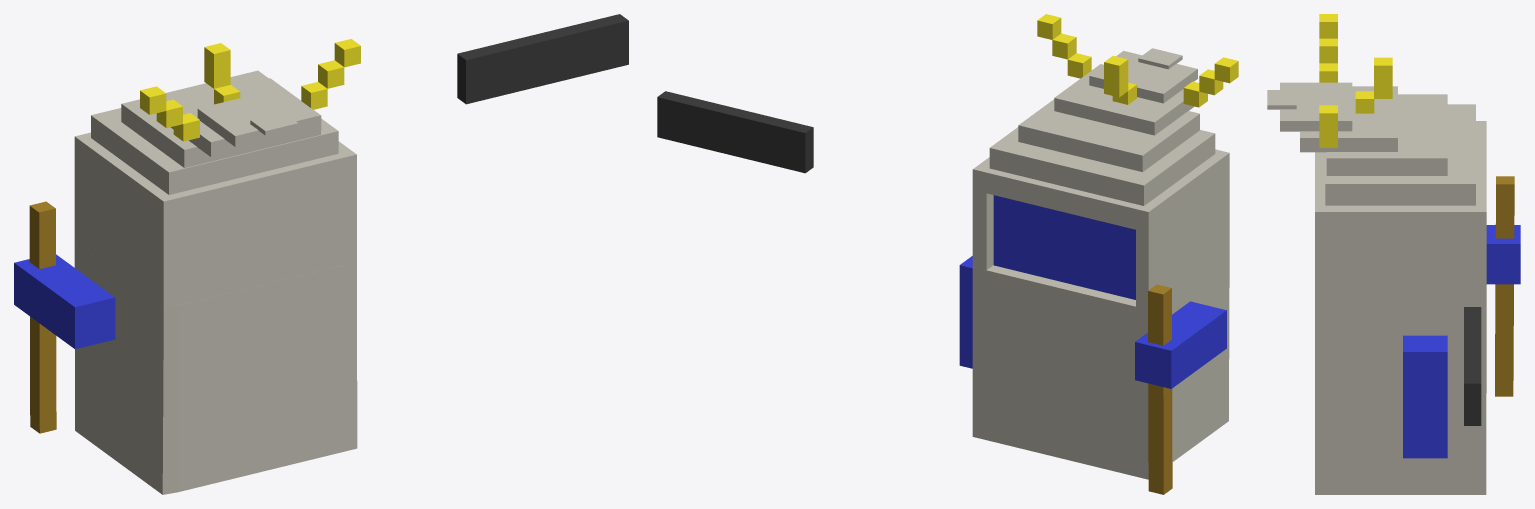
Rendered from preacher.fbx.
3 views of the same model, side by side, from view 1: azimuth 30°, elevation 25°; view 2: azimuth 150°, elevation 25°; view 3: azimuth 270°, elevation 25° (orthographic). The views are drawn at different scales.
Parts seen in each view (by area): view 1: Cube.009, Cube.015, Cube.109, Cube.055; view 2: Cube.009, Cube.015, Cube.109, Cube.055, Cube.066; view 3: Cube.009, Cube.015, Cube.066, Cube.109, Cube.055.
Part boxes in pixels (x1,y1,x2,y2): Cube.009: (74,39,360,308); Cube.015: (74,244,357,494); Cube.109: (14,201,115,433); Cube.055: (457,14,628,104); Cube.009: (972,14,1238,309); Cube.015: (972,251,1229,479); Cube.109: (1135,284,1226,494); Cube.055: (657,91,813,173); Cube.066: (959,256,972,368); Cube.009: (1267,14,1486,315); Cube.015: (1315,315,1486,494); Cube.066: (1403,335,1447,458); Cube.109: (1486,176,1520,396); Cube.055: (1464,307,1481,425).
Size of the model in its own units: 633 by 414 by 247.
